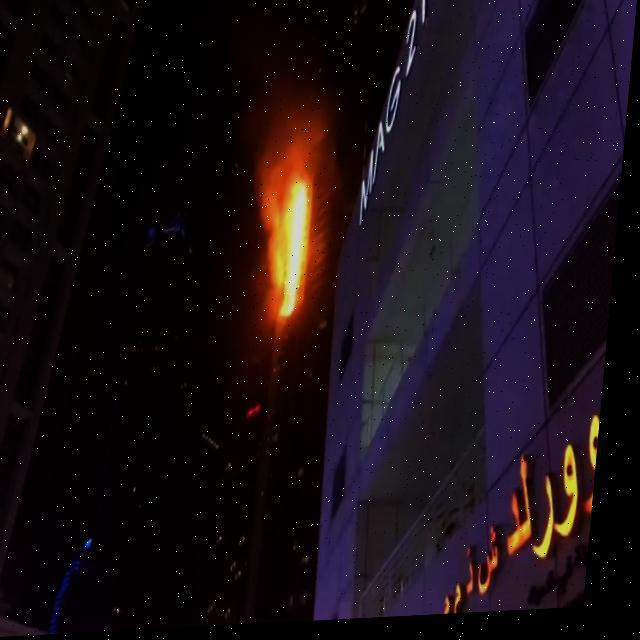Fire: (260, 150, 322, 322)
